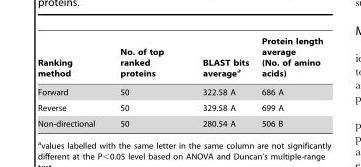table: (37, 36, 322, 127)
table column: (106, 36, 182, 127), (182, 36, 254, 127), (37, 36, 106, 127), (254, 36, 322, 127)
table column header: (37, 36, 322, 82)
table row: (37, 36, 322, 82), (37, 82, 322, 99), (37, 99, 322, 115), (37, 115, 322, 127)
